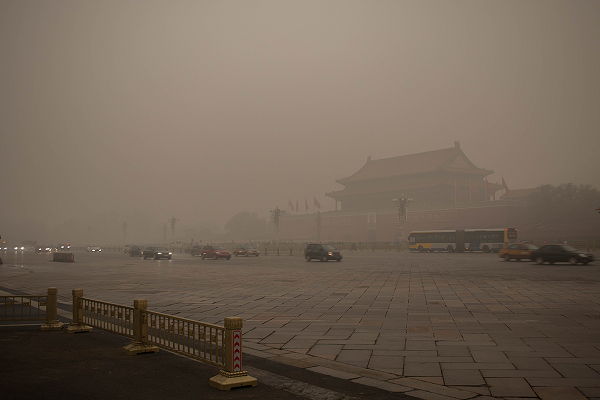bus: (408, 227, 519, 253), (21, 240, 37, 253)
car: (529, 243, 594, 266), (498, 242, 544, 262), (303, 243, 343, 262), (200, 244, 232, 259), (231, 243, 261, 257), (142, 246, 172, 260), (128, 244, 149, 257), (190, 243, 209, 257), (86, 243, 102, 253), (34, 244, 50, 254), (123, 244, 137, 253), (44, 244, 57, 253), (12, 244, 25, 253), (59, 242, 71, 251), (1, 243, 9, 253)
